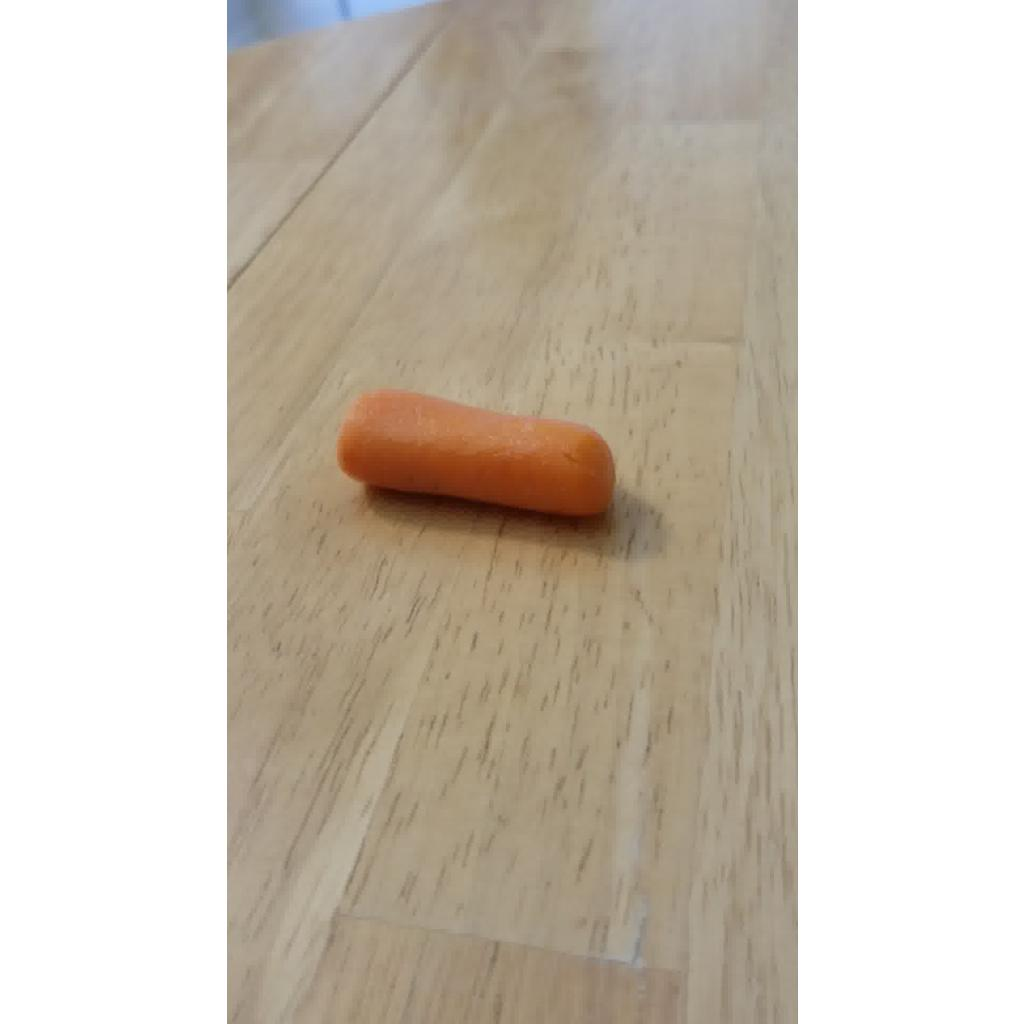carrot: (336, 390, 614, 516)
